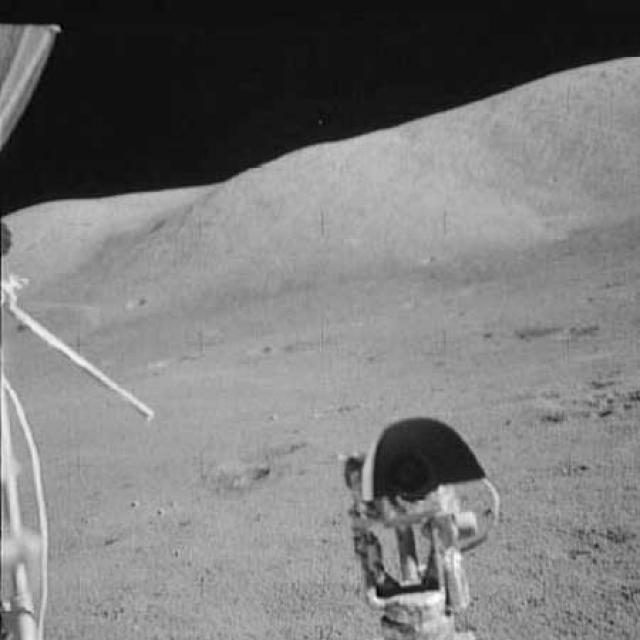artifact: (0, 25, 176, 421), (324, 411, 509, 639), (0, 421, 69, 639)
crater: (231, 433, 311, 459), (198, 465, 276, 490), (475, 321, 562, 343)
